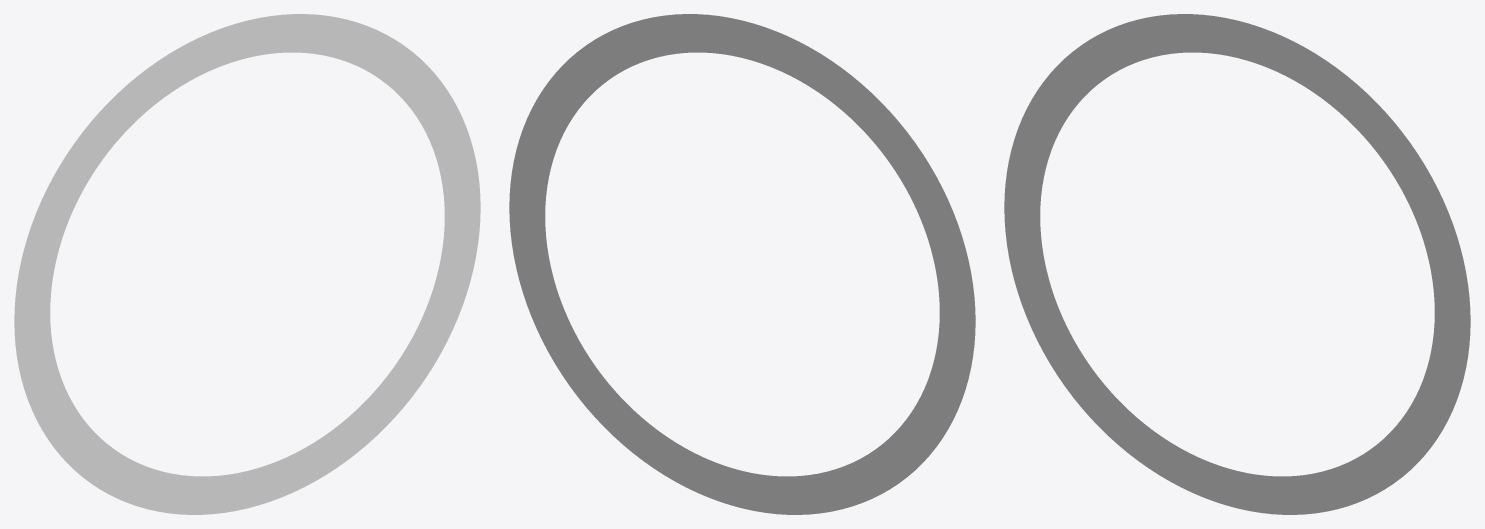
File: LensMid.obj
The picture shows the model from 3 angles, left to right: view 1: azimuth 30°, elevation 25°; view 2: azimuth 150°, elevation 25°; view 3: azimuth 330°, elevation 25°; orthographic projection.
Parts seen in each view (by area): view 1: LensMid; view 2: LensMid; view 3: LensMid.
Boxes of the visible parts, bbox=[...] form: LensMid: bbox=[14, 14, 480, 514]; LensMid: bbox=[509, 14, 975, 514]; LensMid: bbox=[1004, 14, 1470, 514].
Size of the model in its own units: 41.6 by 41.6 by 0.
1 material, 1 textured.
